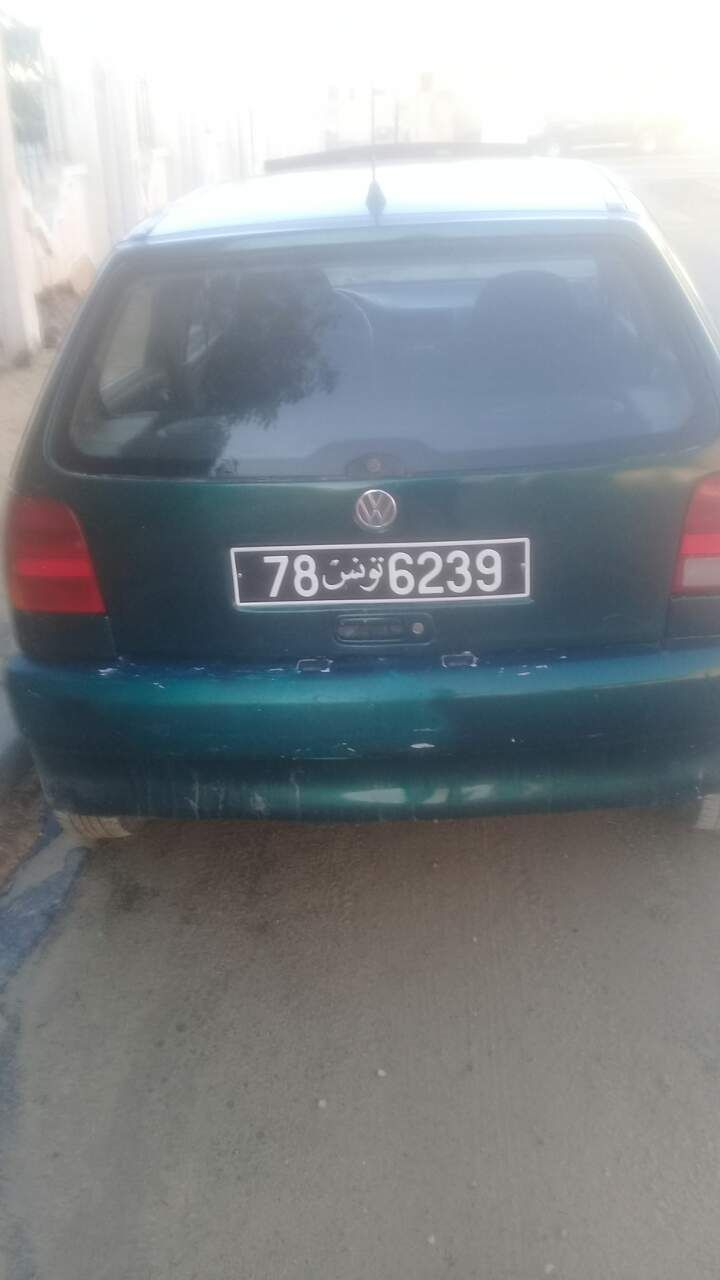LP: (224, 541, 544, 607)
